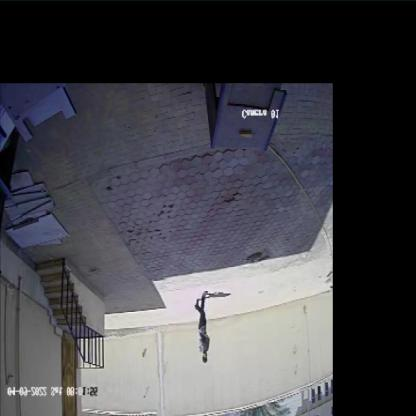handgun: (198, 330, 212, 346)
